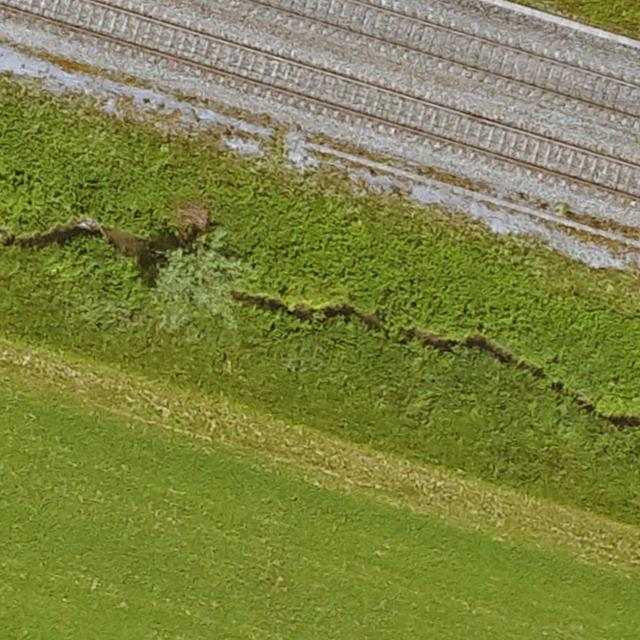tree: (149, 238, 243, 322)
